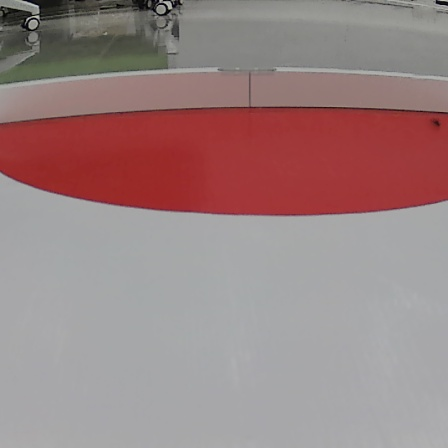red_base: (0, 103, 447, 217)
